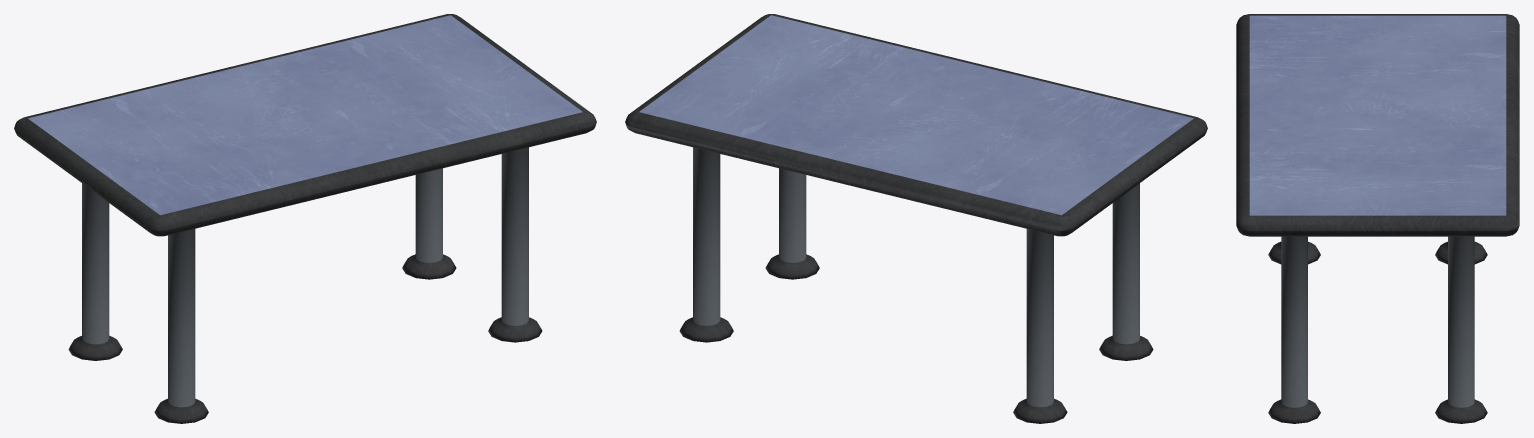
Rendered from table.fbx.
The picture shows the model from 3 angles, left to right: view 1: azimuth 30°, elevation 25°; view 2: azimuth 150°, elevation 25°; view 3: azimuth 270°, elevation 25°; orthographic projection. The views are drawn at different scales.
Visible parts, largest first — view 1: MedTable; view 2: MedTable; view 3: MedTable.
Part boxes in pixels (x1,y1,x2,y2): MedTable: [14, 14, 596, 423]; MedTable: [625, 14, 1207, 423]; MedTable: [1236, 14, 1519, 423].
Size of the model in its own units: 1.5 by 0.722 by 0.85.
